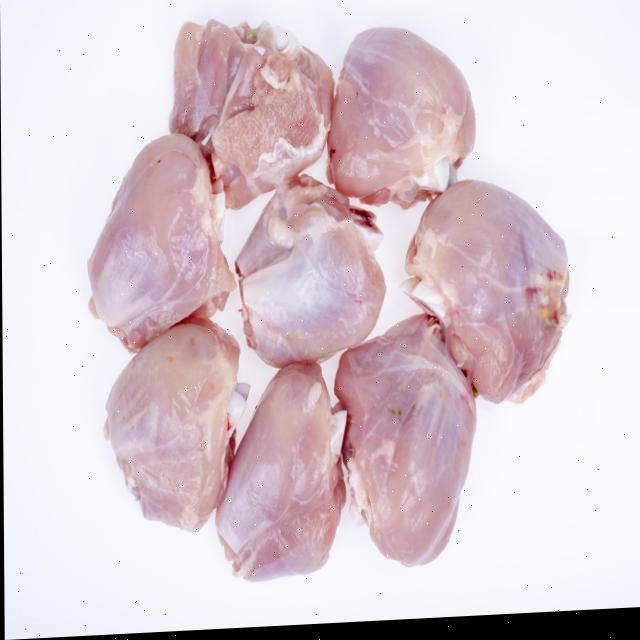breast: (338, 322, 475, 588), (420, 176, 573, 410), (224, 358, 350, 602), (74, 152, 234, 342), (97, 322, 248, 518), (168, 1, 326, 188), (244, 171, 382, 369), (328, 25, 474, 202)
